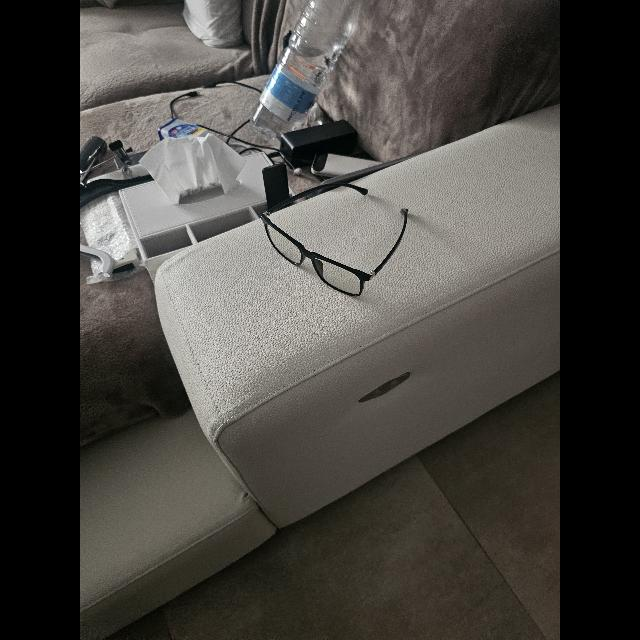glasses: (260, 182, 408, 296)
